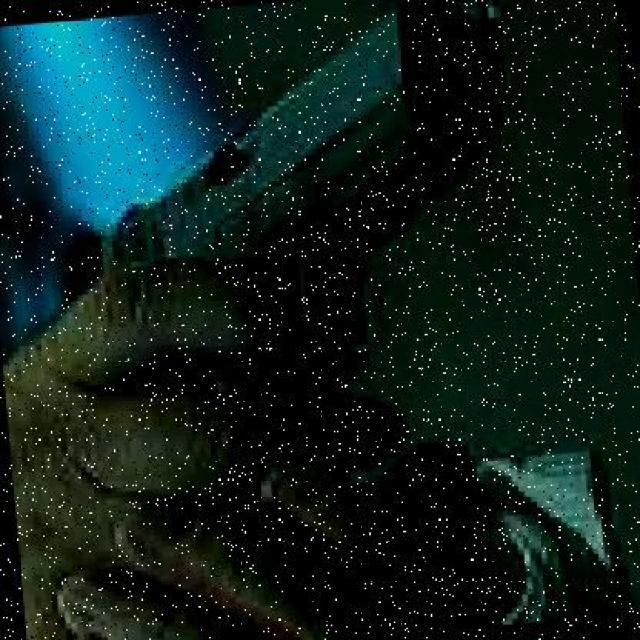rifle: (68, 11, 490, 308)
